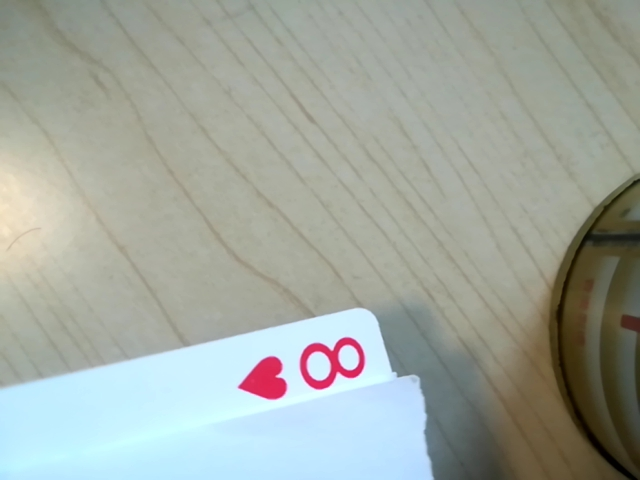hx 8: (250, 329, 386, 410)
